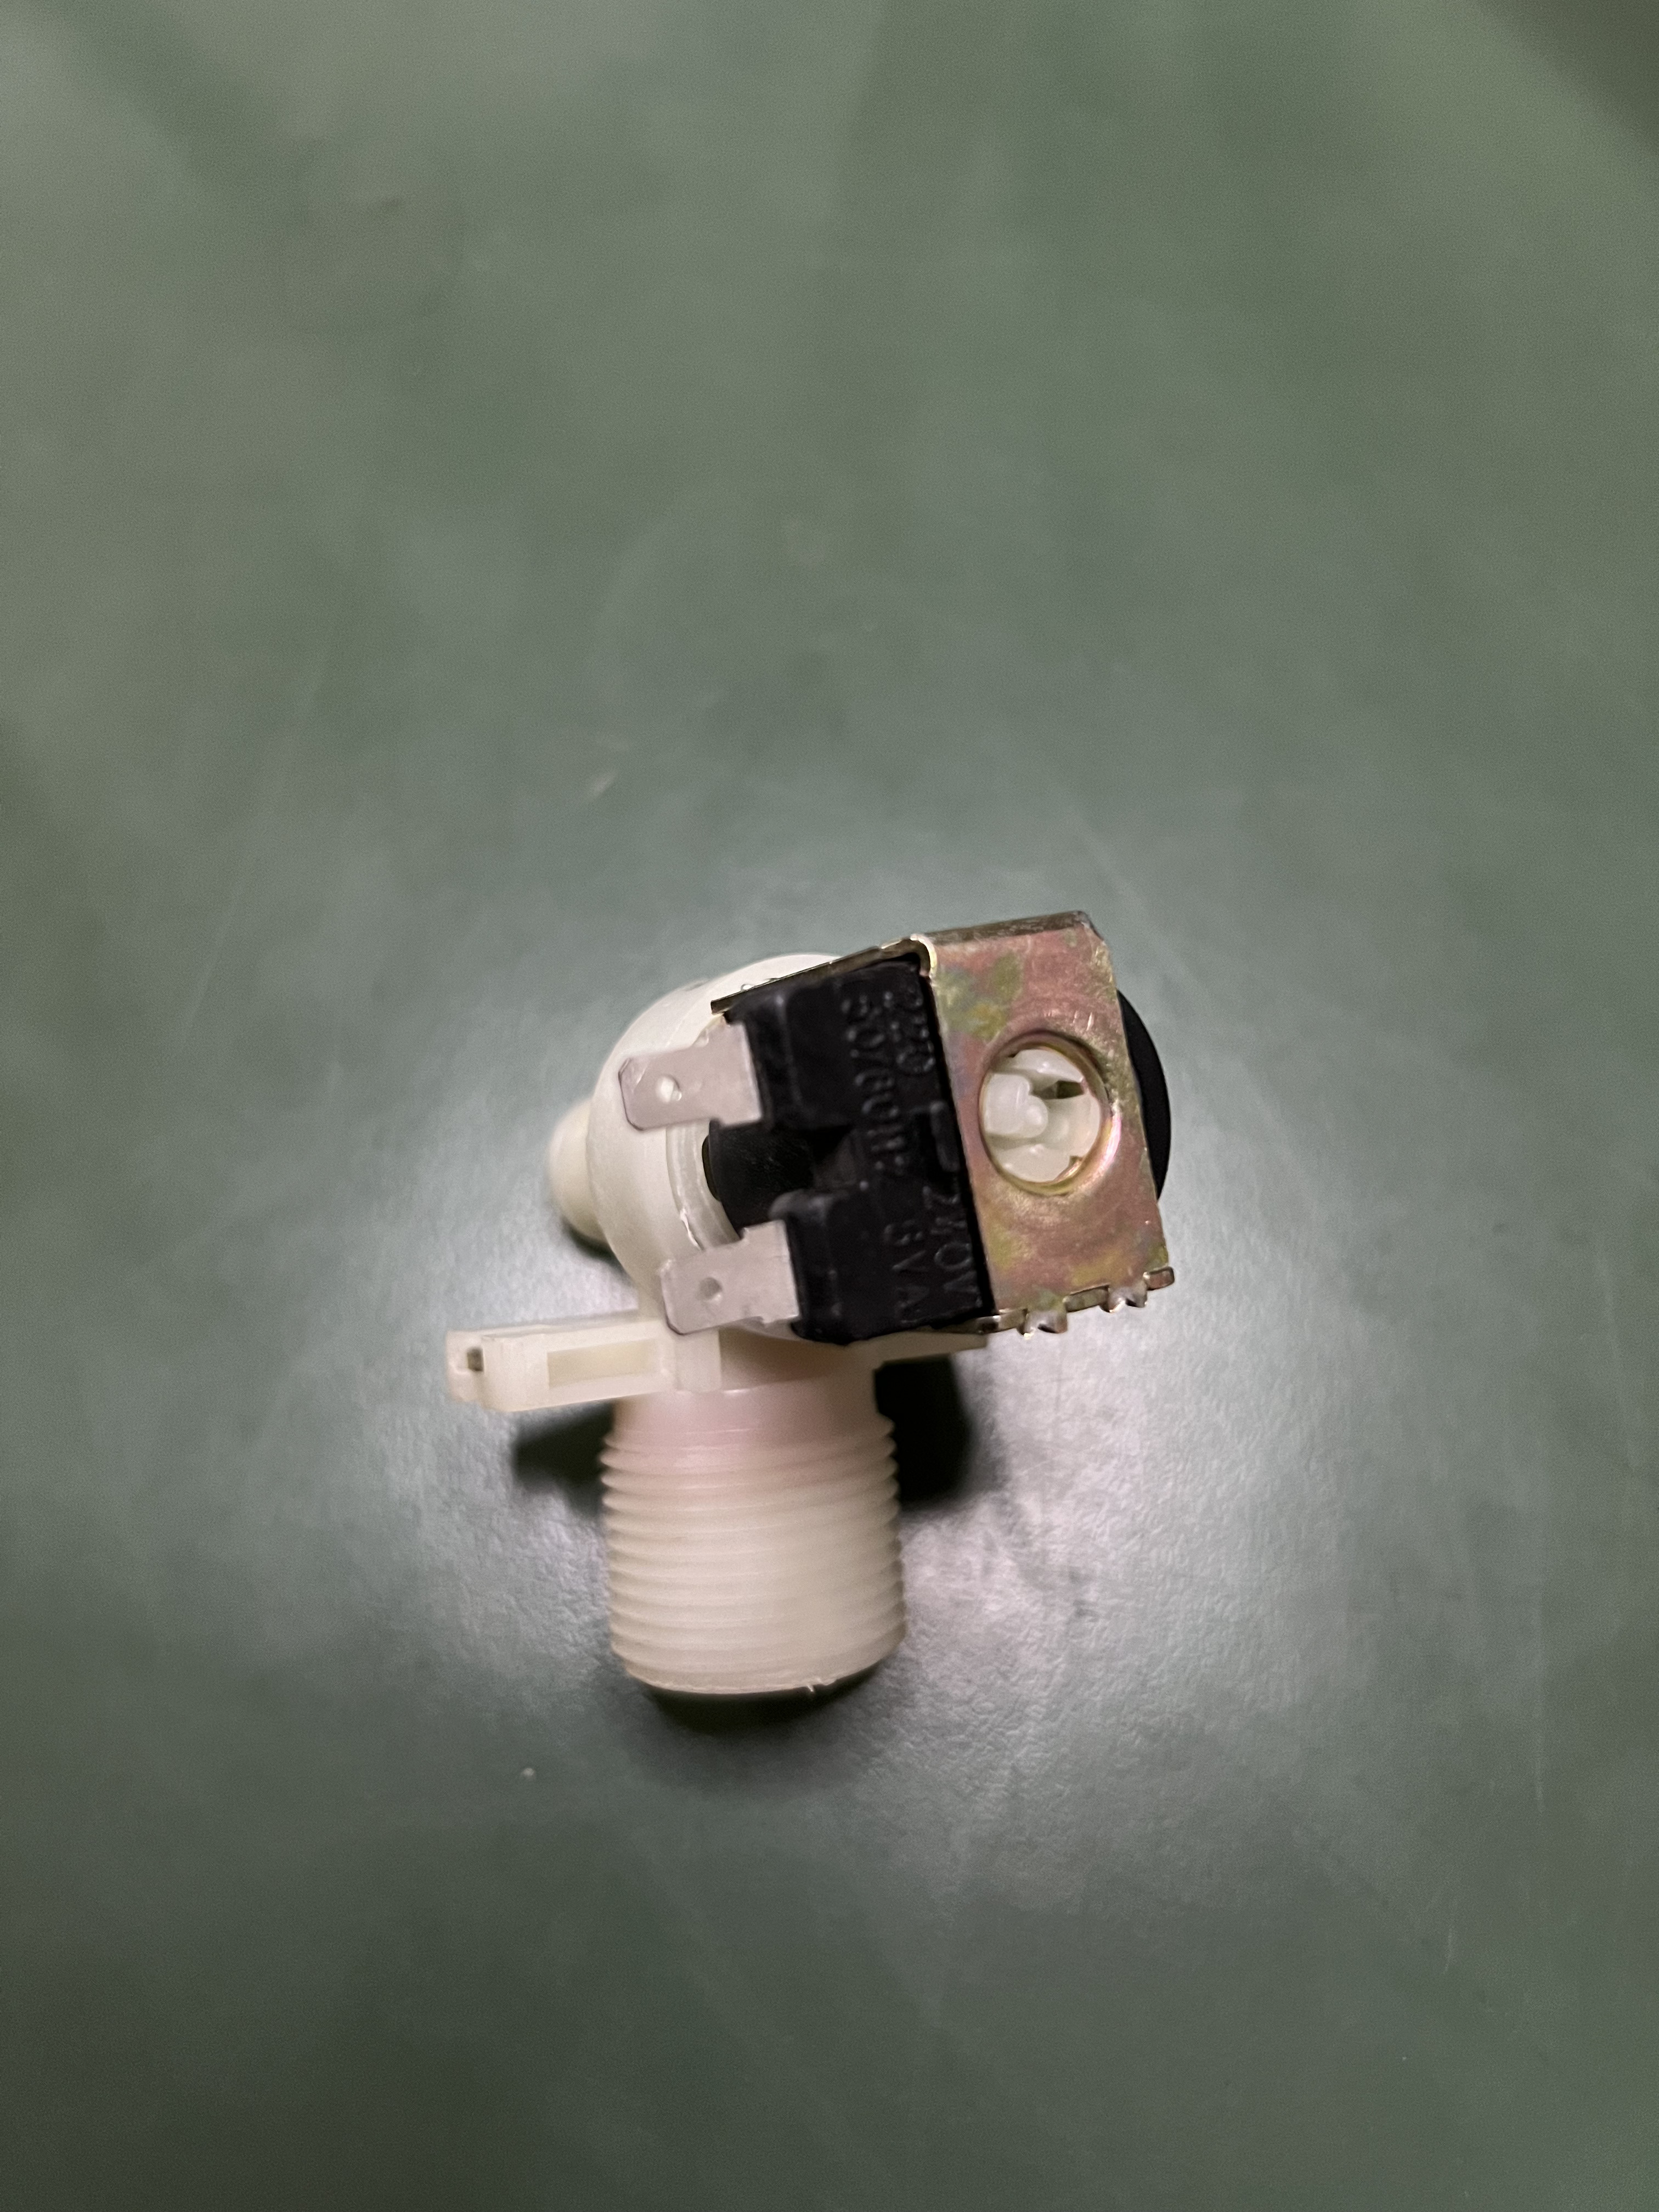godrej_inlet_valves: (458, 883, 1229, 1784)
